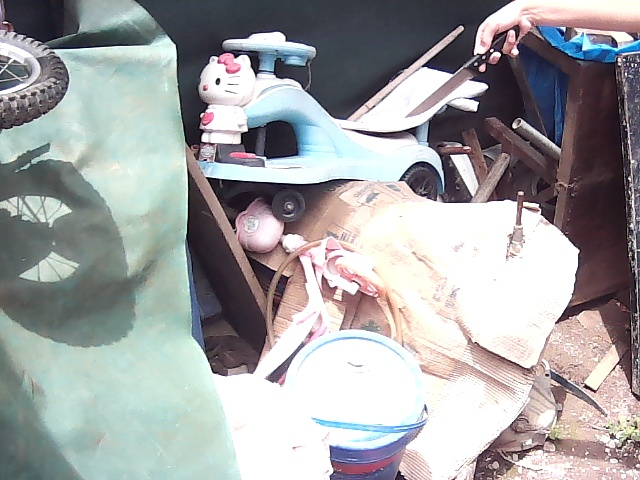cuchillo: (400, 52, 487, 123)
